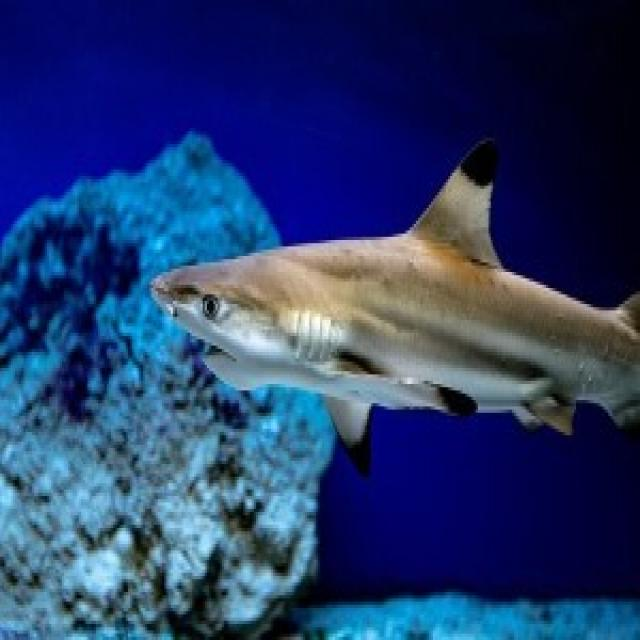Shark: (143, 124, 639, 539)
